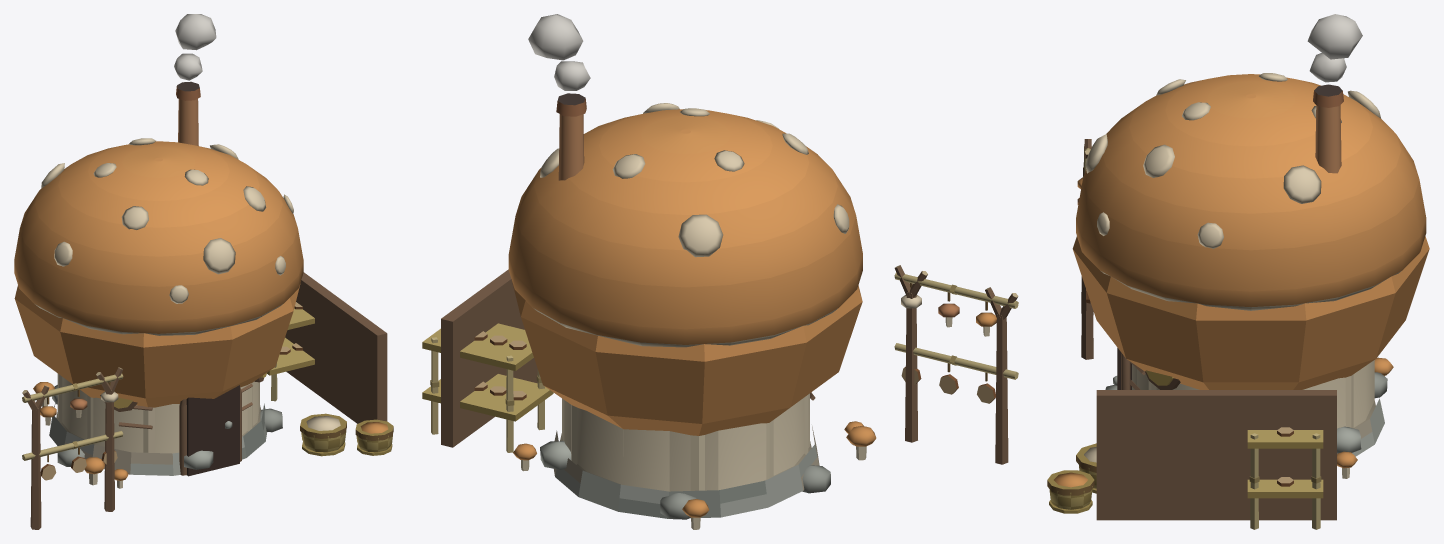
Rendered from mushroom_hut.glb.
3 views of the same model, side by side, from view 1: azimuth 30°, elevation 25°; view 2: azimuth 150°, elevation 25°; view 3: azimuth 270°, elevation 25° (orthographic). The views are drawn at different scales.
Visible parts, largest first — view 1: body, body__far, body_nl; view 2: body, body__far, body_nl; view 3: body, body__far, body_nl.
Part boxes in pixels (left/top/right/bottom): body: left=14, top=81, right=393, bottom=529; body__far: left=14, top=272, right=387, bottom=476; body_nl: left=174, top=14, right=216, bottom=80; body: left=422, top=93, right=1018, bottom=529; body__far: left=441, top=269, right=862, bottom=490; body_nl: left=528, top=14, right=590, bottom=90; body: left=1047, top=73, right=1426, bottom=529; body__far: left=1072, top=236, right=1429, bottom=520; body_nl: left=1307, top=14, right=1362, bottom=82.
Bounding box in the file's own units: 3.16 × 2.95 × 2.23.
